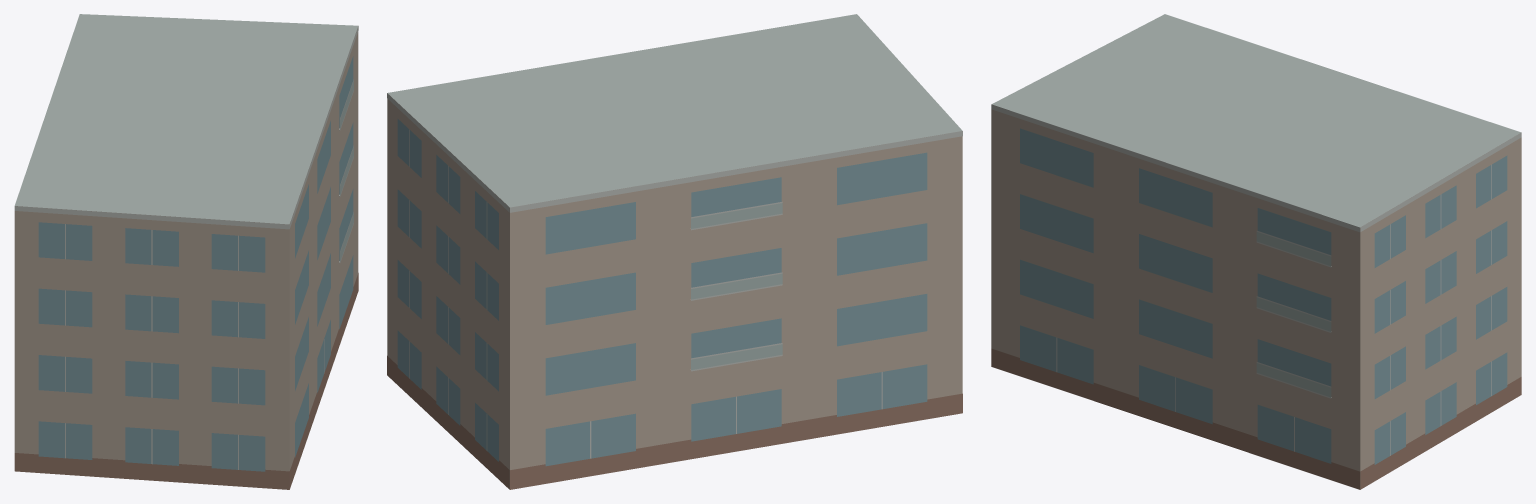
Rendered from survey-upis-32851373.glb.
3 views of the same model, side by side, from view 1: azimuth 30°, elevation 25°; view 2: azimuth 150°, elevation 25°; view 3: azimuth 270°, elevation 25° (orthographic). The views are drawn at different scales.
Visible parts, largest first — view 1: survey-upis-32851373.tmp; view 2: survey-upis-32851373.tmp; view 3: survey-upis-32851373.tmp.
Part boxes in pixels (x1,y1,x2,y2): survey-upis-32851373.tmp: (14, 14, 358, 489); survey-upis-32851373.tmp: (387, 14, 962, 489); survey-upis-32851373.tmp: (991, 14, 1521, 489).
Size of the model in its own units: 22.69 by 13 by 23.81.
